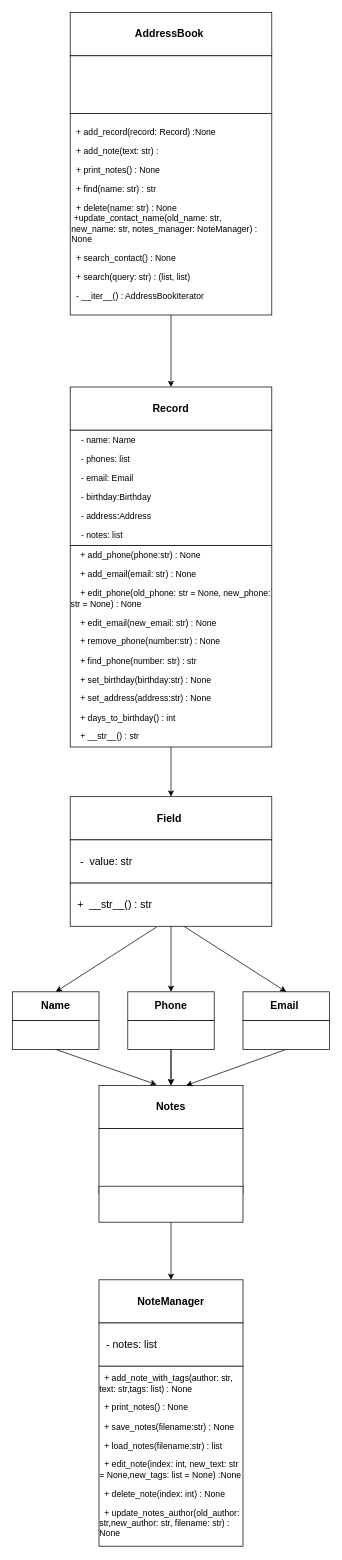
This 342x1560 diagram has some shape labels left out. The shapes that lost their labels are listed below. From the top down, each one's box as (x1, y1, x2, y2) in pixels, then its label:
(69, 55, 272, 113): - data: dict - notes_manager: NoteManager
(98, 1128, 243, 1193): - text:str - author: str - tags: list
(98, 1185, 243, 1222): + __str__() : str
